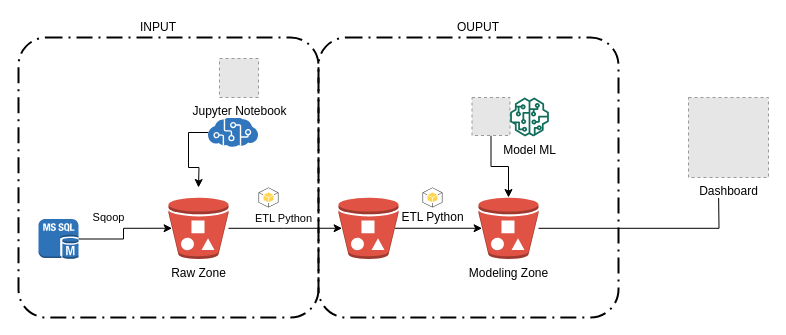
This 786x335 diagram has some shape labels left out. Grey dashed boxes stand in for pictures. The shapes that lost their labels are listed below. From the top down, each one's centre as x and y in pixels, then its label:
point (58, 238): Sql Server
point (368, 227): Processed Zone
